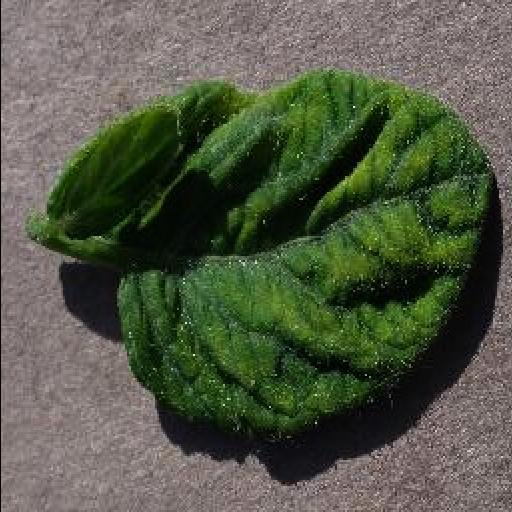disease_tomato: (45, 68, 491, 440)
